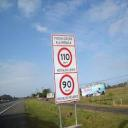speed_limit_110: (57, 47, 73, 69)
